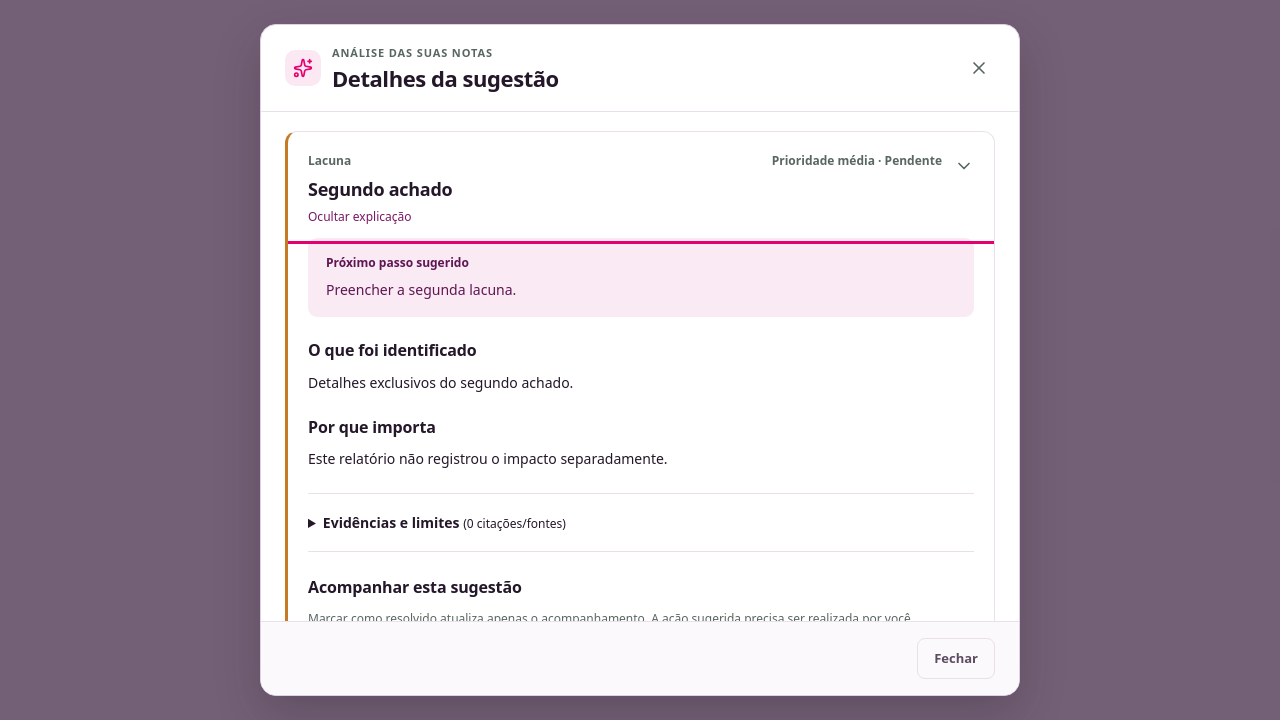
Test: analysis preview › shows only the selected finding when opened directly
This screenshot has width=1280, height=720.
Expected: the text "Detalhes exclusivos do segundo achado." is shown, x1=308 y1=373 x2=573 y2=392
What coordinates should you click on to do the following:
click the button "Segundo achado"
I would click on:
 (330, 160)
Its box is x1=288 y1=132 x2=994 y2=238.
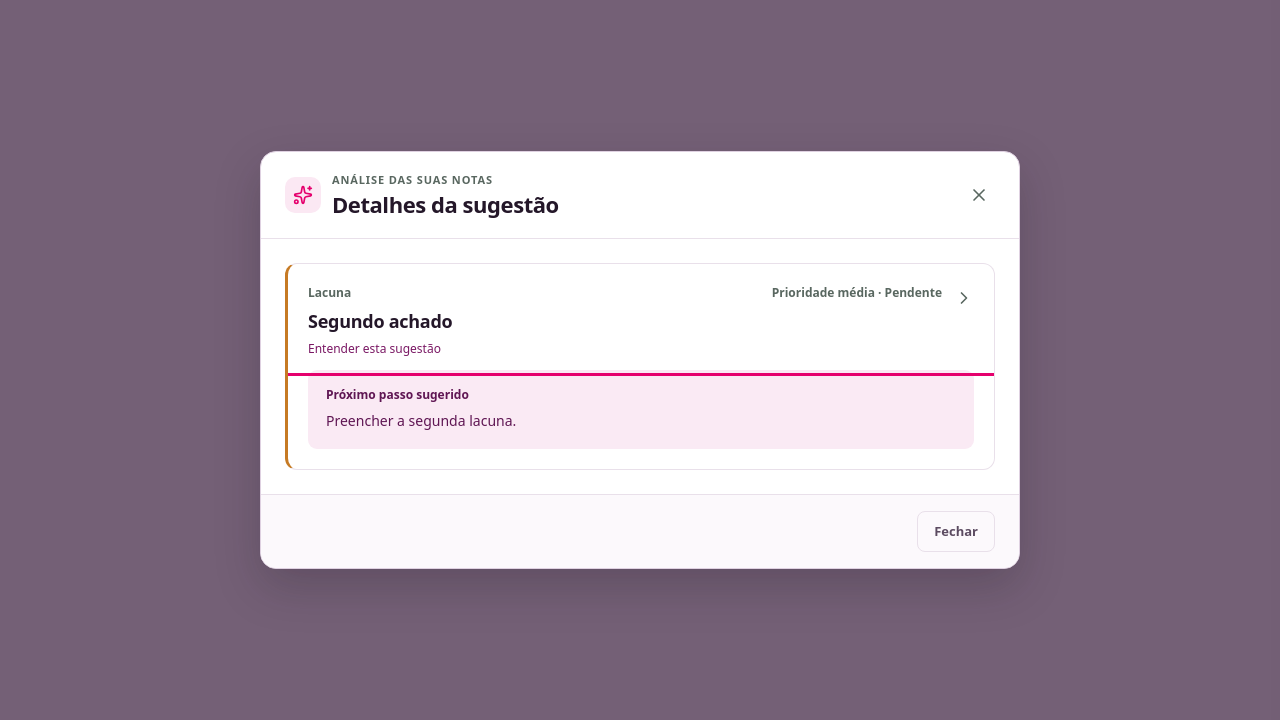
Now the button "Segundo achado" is collapsed, box x1=288 y1=264 x2=994 y2=370
Now the text "Detalhes exclusivos do segundo achado." is gone
